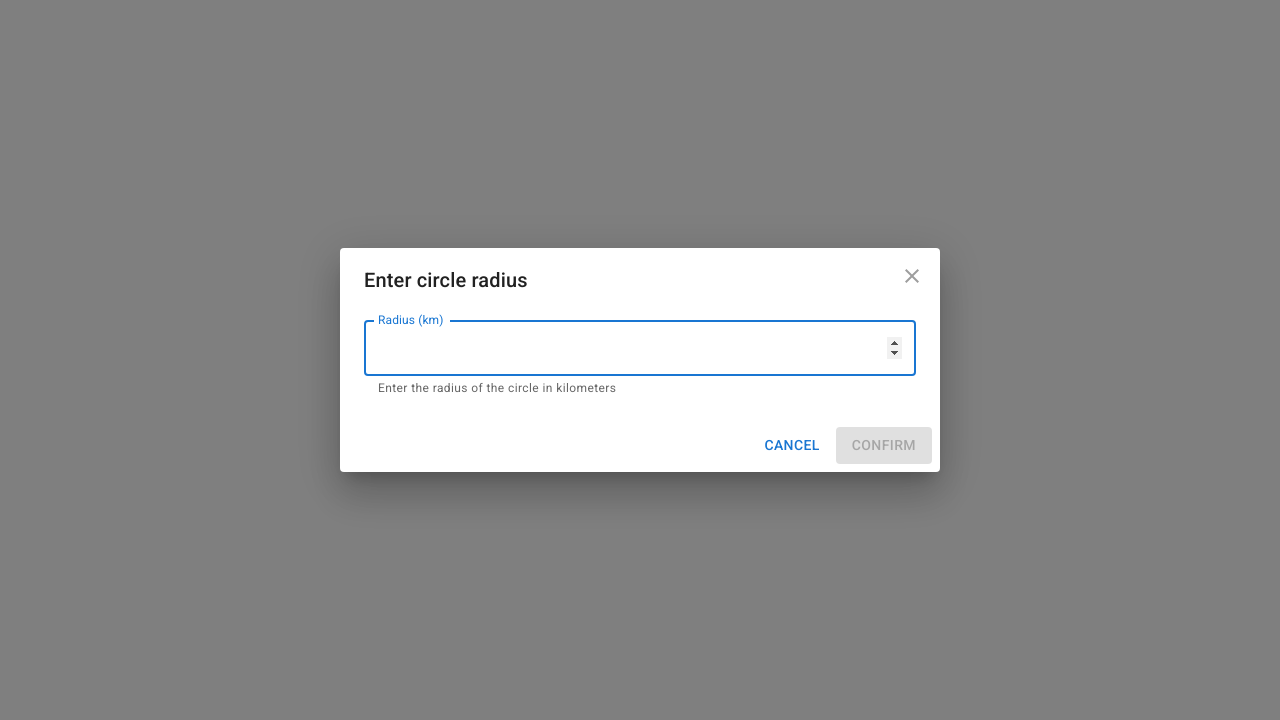
Scenario: RadiusDialog › input validation › shows error for zero
Type "0" into the number field labelled "Radius (km)" at (640, 348), box [364, 320, 916, 376]
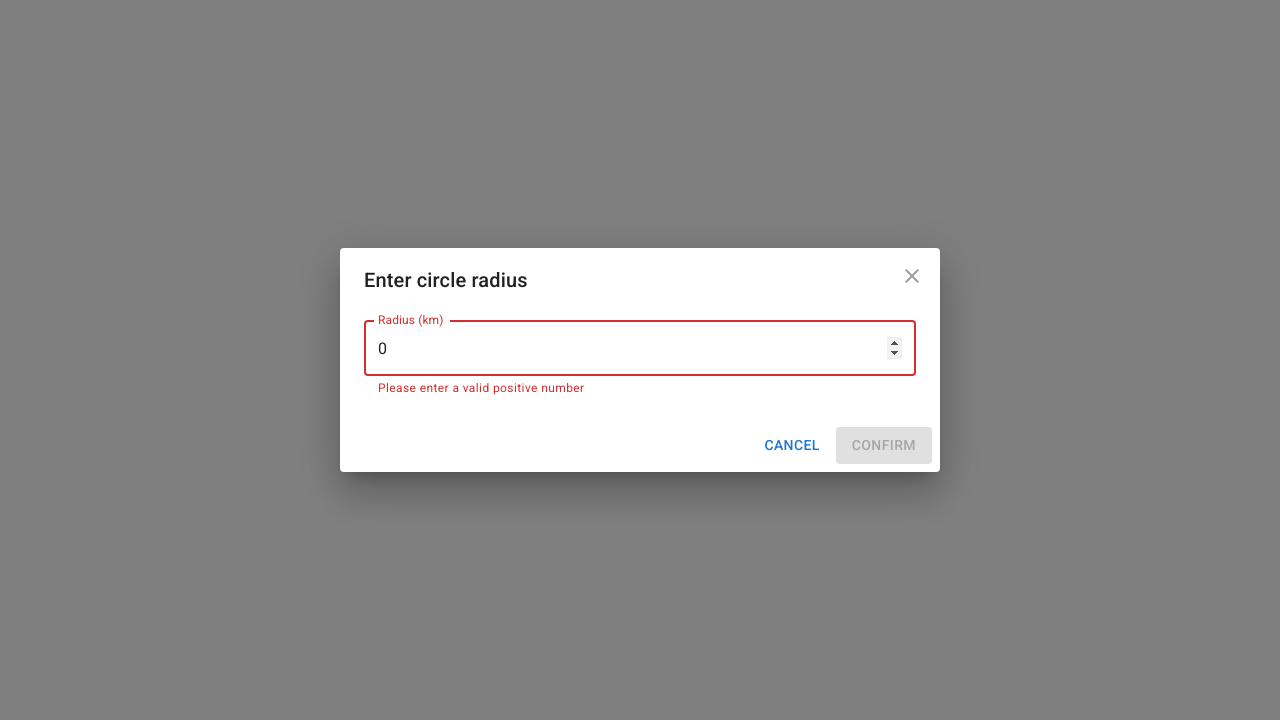
Expected: the button "Confirm" is disabled, [836, 427, 932, 464]
Result: the text "Please enter a valid positive number" is shown at [378, 381, 584, 395]
